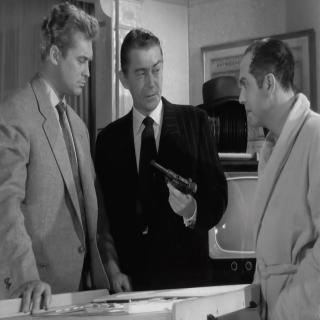gun: (148, 157, 196, 220)
